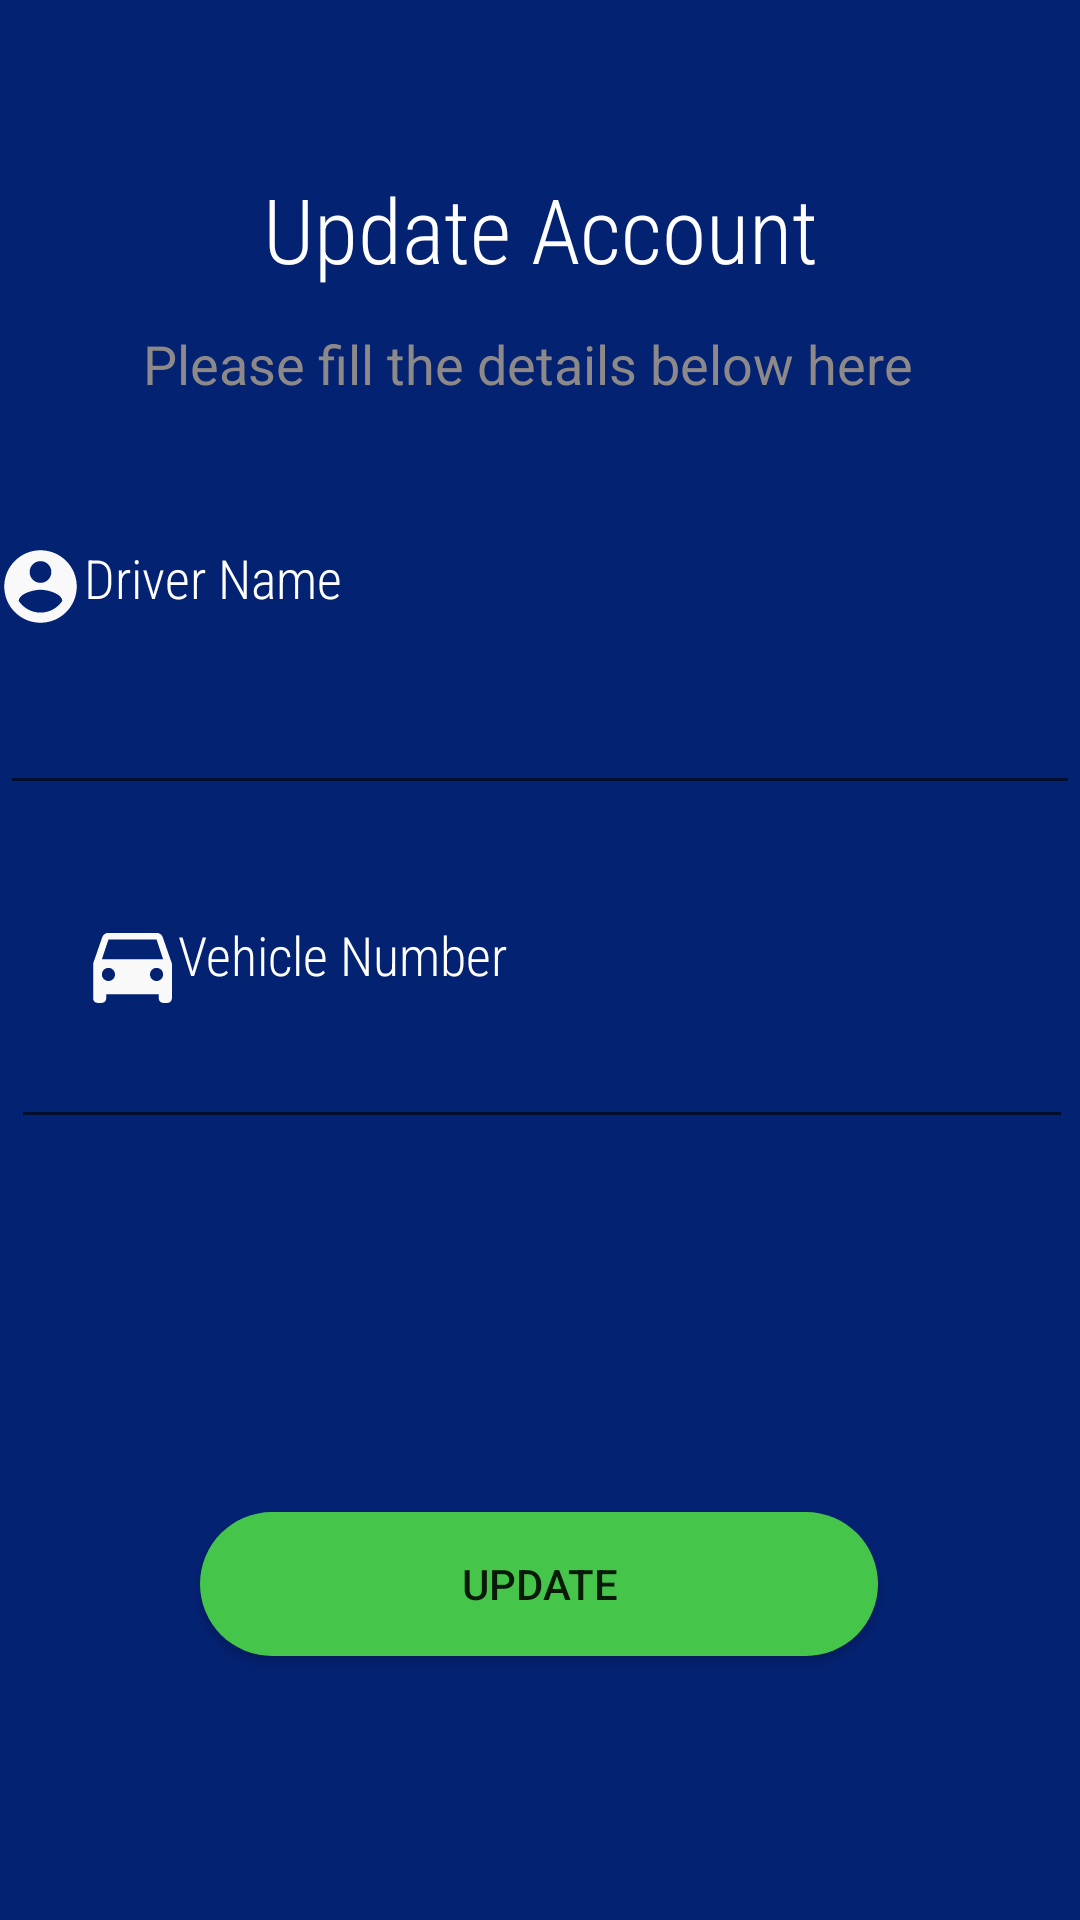

Icon bounding boxes for this 1080 x 1920 phone screenshot, format (x1, y1, x2, y2):
directions car: (93, 933, 172, 1003)
